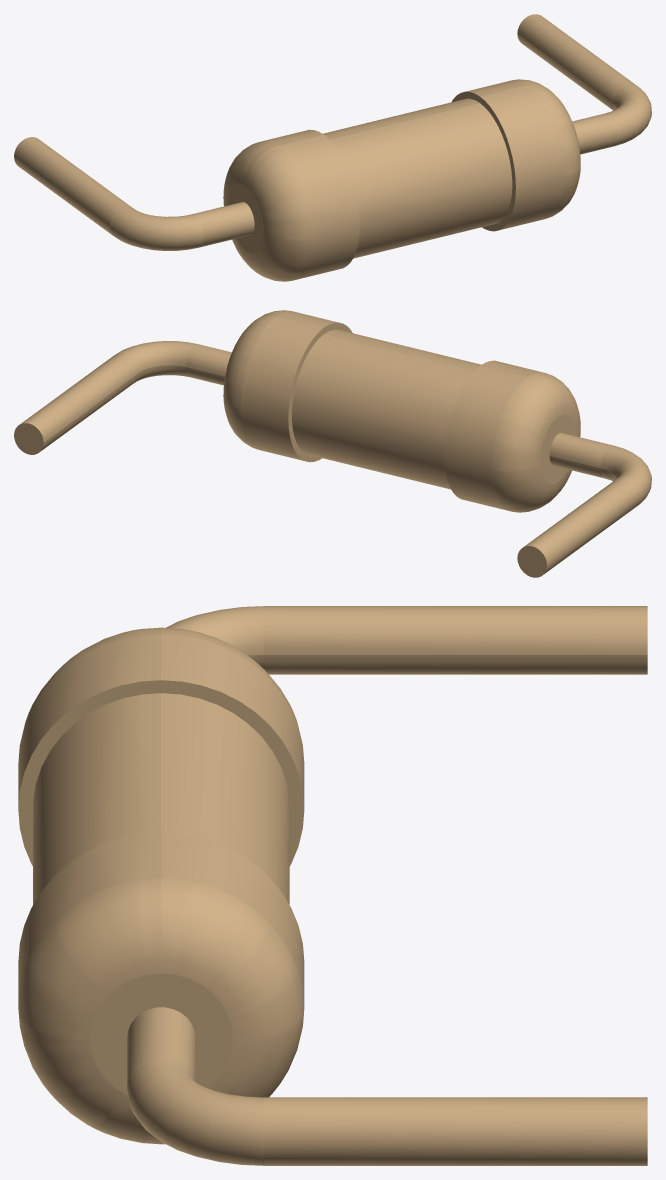
The picture shows the model from 3 angles, top to bottom: view 1: azimuth 30°, elevation 25°; view 2: azimuth 150°, elevation 25°; view 3: azimuth 270°, elevation 25°; orthographic projection. The views are drawn at different scales.
Parts seen in each view (by area): view 1: R_Axial_DIN0207_L6.3mm_D2.5mm_P10.16mm_Horizontal; view 2: R_Axial_DIN0207_L6.3mm_D2.5mm_P10.16mm_Horizontal; view 3: R_Axial_DIN0207_L6.3mm_D2.5mm_P10.16mm_Horizontal.
Boxes of the visible parts, box(x1,y1,x2,y2) form: R_Axial_DIN0207_L6.3mm_D2.5mm_P10.16mm_Horizontal: box(14, 14, 651, 281); R_Axial_DIN0207_L6.3mm_D2.5mm_P10.16mm_Horizontal: box(14, 310, 651, 577); R_Axial_DIN0207_L6.3mm_D2.5mm_P10.16mm_Horizontal: box(18, 606, 647, 1165).
Size of the model in its own units: 10.76 by 2.5 by 5.5.
